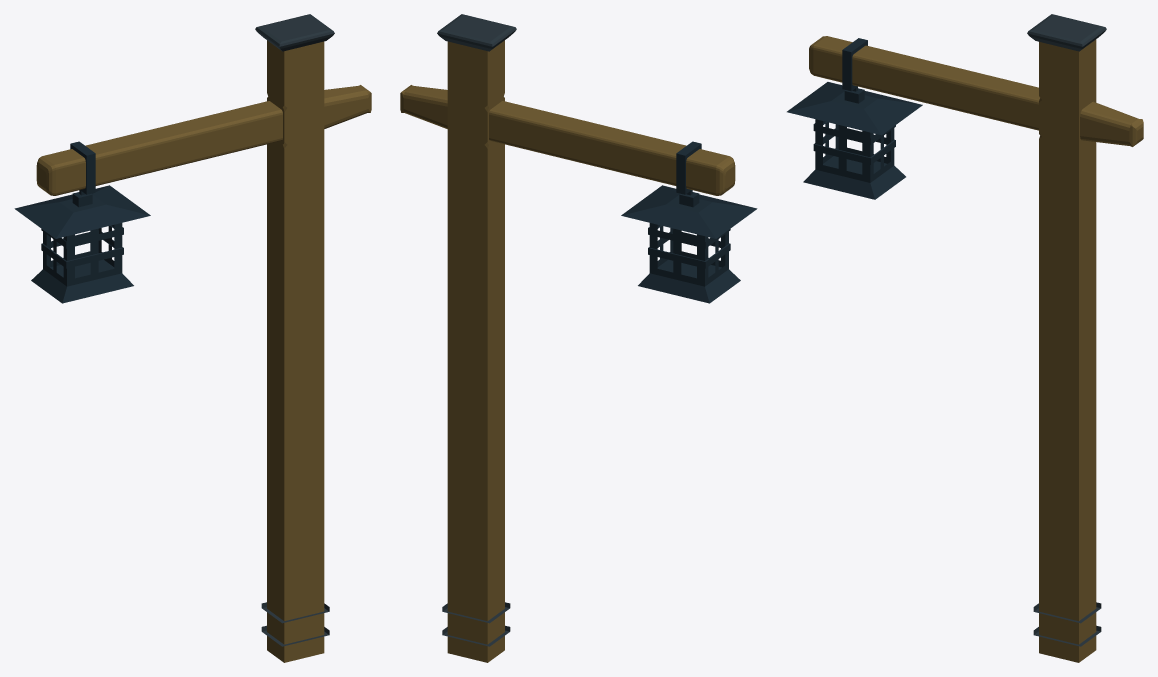
The model's file is SM_Prop_Farol.fbx.
3 renders of one model, left to right at view 1: azimuth 30°, elevation 25°; view 2: azimuth 150°, elevation 25°; view 3: azimuth 330°, elevation 25°, orthographic.
Visible parts, largest first — view 1: mastil; view 2: mastil; view 3: mastil.
Boxes of the visible parts, x1,y1,x2,y2 form: mastil: (14, 14, 371, 662); mastil: (400, 14, 757, 662); mastil: (787, 14, 1143, 662).
Size of the model in its own units: 620 by 1107 by 134.
1 material, 1 textured.
